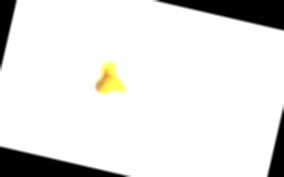mustard: (90, 61, 128, 102)
